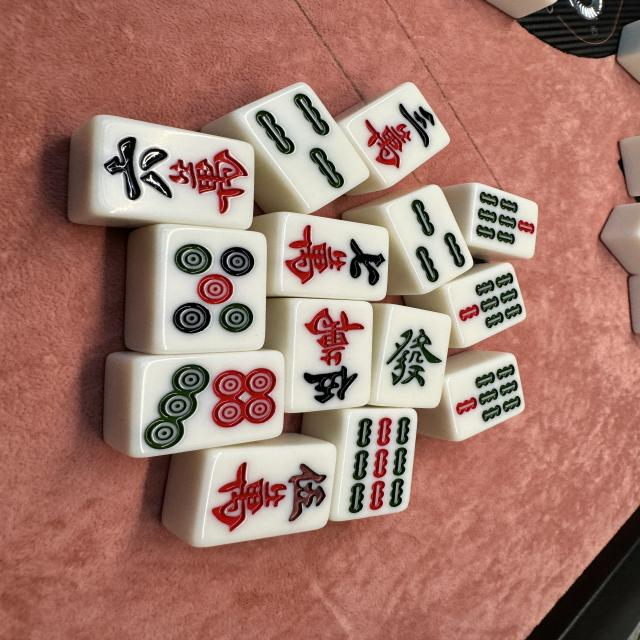hdg: (376, 305, 452, 411)
sb3: (244, 82, 369, 214), (386, 186, 475, 294)
sb7: (446, 353, 525, 442), (446, 262, 528, 347), (471, 182, 538, 260)
sb9: (339, 408, 417, 521)
sc3: (346, 81, 450, 188)
sc5: (195, 443, 337, 548), (289, 299, 368, 413)
sc6: (89, 115, 255, 230)
sc7: (281, 212, 389, 300)
sd5: (160, 228, 265, 352)
sd7: (134, 350, 284, 458)
